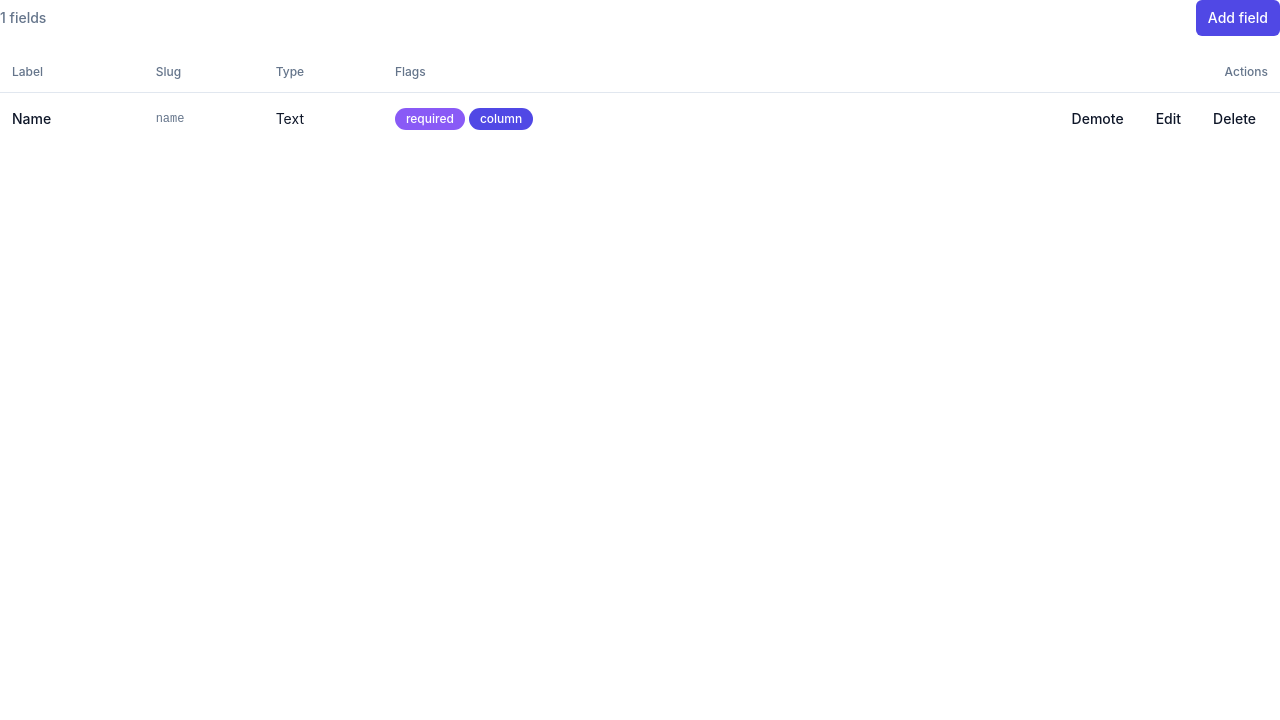
Scenario: FieldsPanel › opens and closes the edit dialog for a field
Click the button "Edit": x=1168, y=118 [1144,100,1193,136]
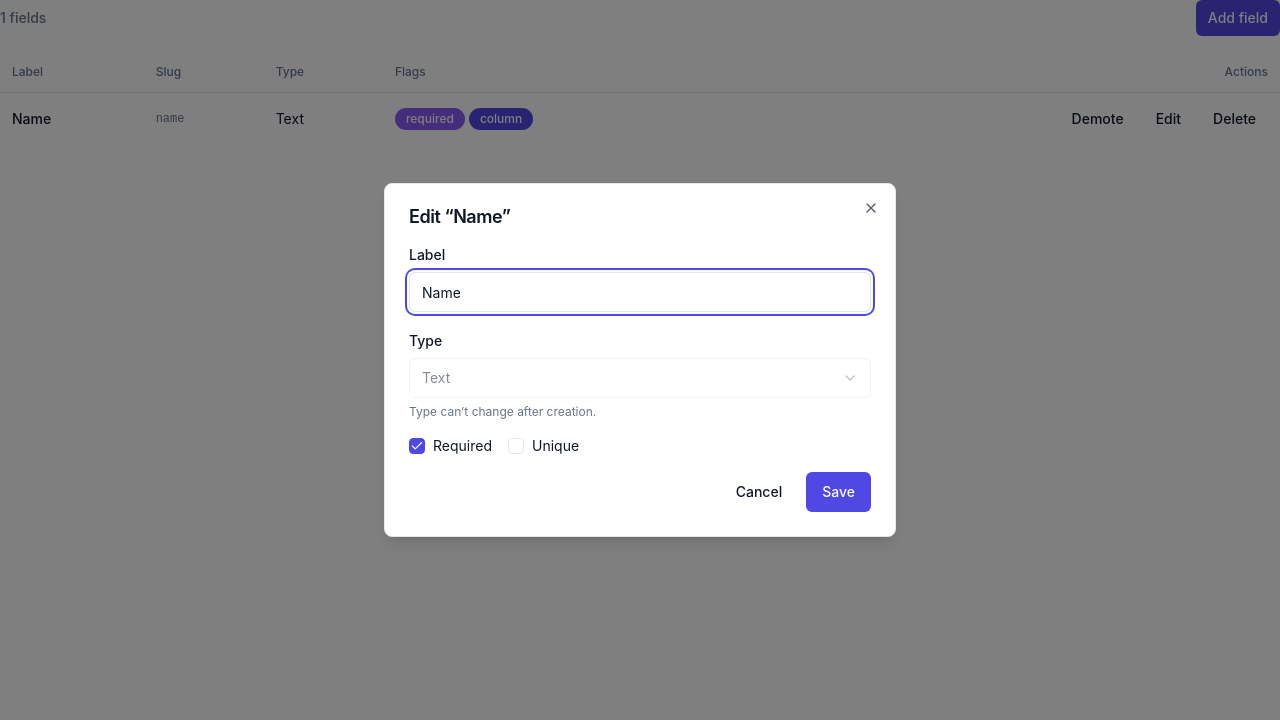
Expected: the dialog is shown, [384,183,896,537]
Click the button "Cancel": x=759, y=492 [720,472,798,512]
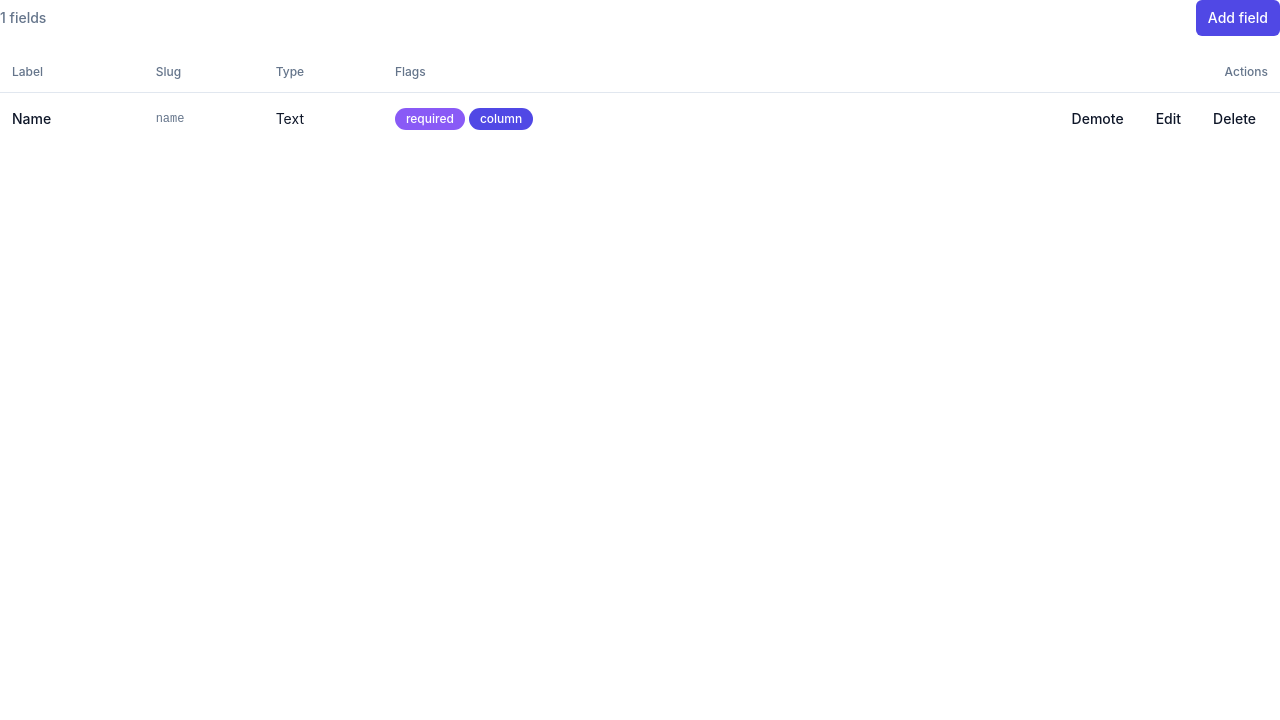
Expected: the dialog is gone
